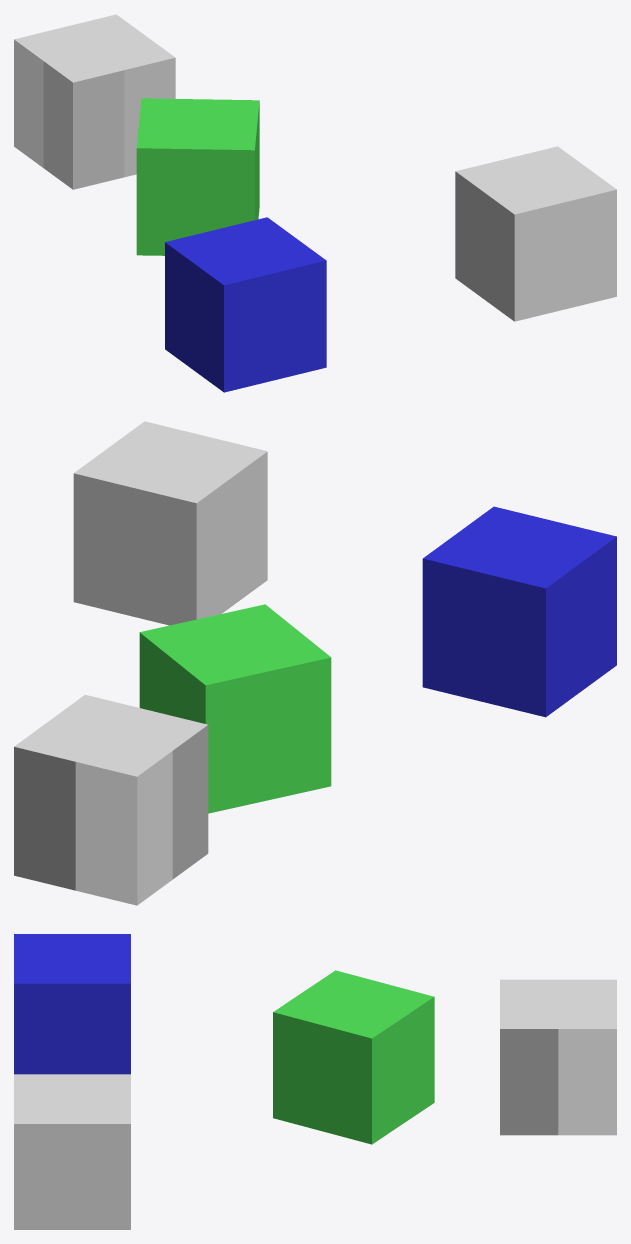
File: optimzed_scene.glb
The picture shows the model from 3 angles, top to bottom: view 1: azimuth 30°, elevation 25°; view 2: azimuth 150°, elevation 25°; view 3: azimuth 270°, elevation 25°; orthographic projection. The views are drawn at different scales.
Parts seen in each view (by area): view 1: Cube, Cube.001, object 3, Cube.002; view 2: object 3, Cube.001, Cube, Cube.002; view 3: Cube.002, object 3, Cube, Cube.001.
Boxes of the visible parts, x1=… form: Cube: x1=455, y1=146, x2=616, y2=321; Cube.001: x1=165, y1=217, x2=326, y2=392; object 3: x1=14, y1=14, x2=175, y2=189; Cube.002: x1=136, y1=98, x2=259, y2=255; object 3: x1=14, y1=694, x2=208, y2=905; Cube.001: x1=422, y1=506, x2=616, y2=717; Cube: x1=73, y1=421, x2=267, y2=625; Cube.002: x1=139, y1=604, x2=331, y2=813; Cube.002: x1=273, y1=970, x2=434, y2=1144; object 3: x1=500, y1=979, x2=616, y2=1135; Cube: x1=14, y1=1074, x2=130, y2=1229; Cube.001: x1=14, y1=934, x2=130, y2=1074.
Bounding box in the file's own units: 7.67 × 2 × 10.3.
